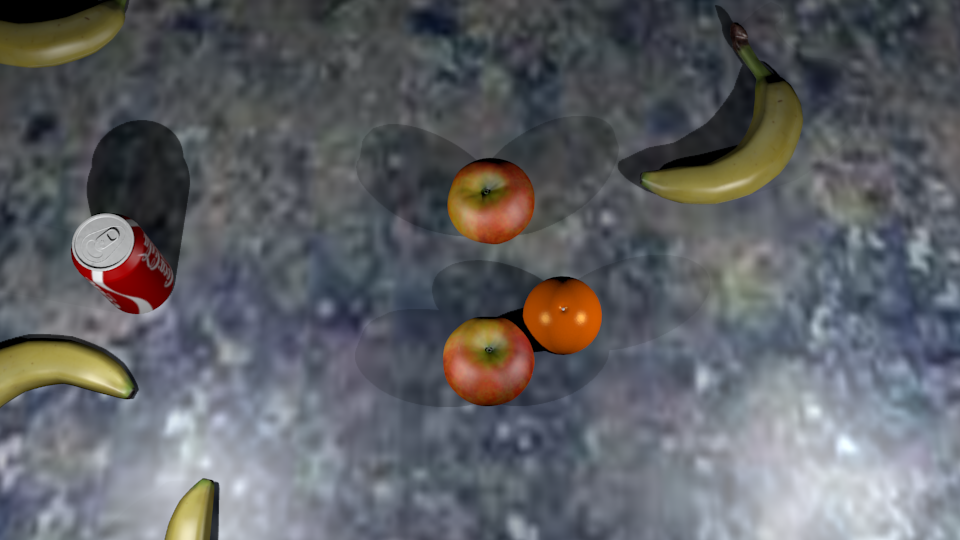apple: (444, 320, 535, 405), (448, 165, 535, 245)
banana: (640, 25, 803, 205), (1, 342, 136, 407), (1, 1, 127, 68), (165, 479, 215, 540)
cola_can: (72, 214, 174, 315)
orange: (523, 281, 602, 354)
